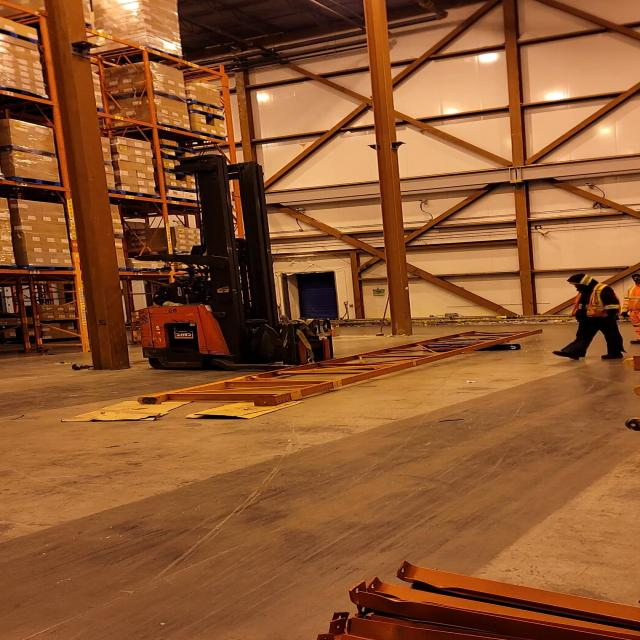forklift: (140, 160, 358, 372)
human: (550, 272, 630, 362), (133, 273, 232, 321), (624, 269, 640, 345)
objectofinterest: (136, 325, 547, 407), (61, 394, 190, 424), (178, 396, 304, 422), (431, 341, 528, 352)
